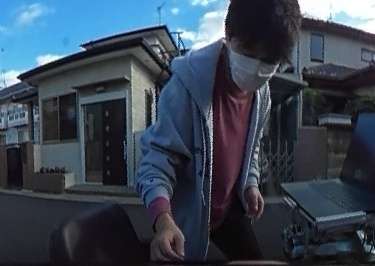person: (130, 2, 305, 266)
